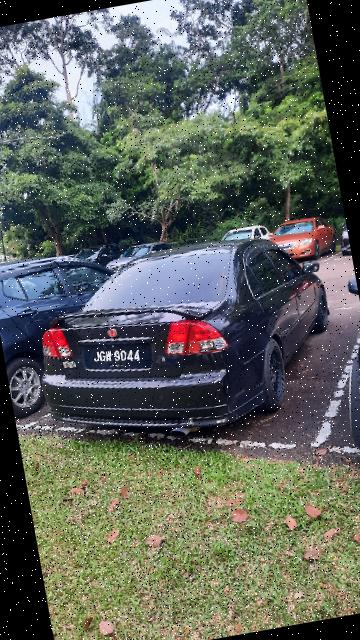License_Plate: (77, 332, 159, 384)
car: (25, 221, 352, 468), (1, 231, 167, 428), (258, 210, 339, 273), (212, 219, 276, 268)
